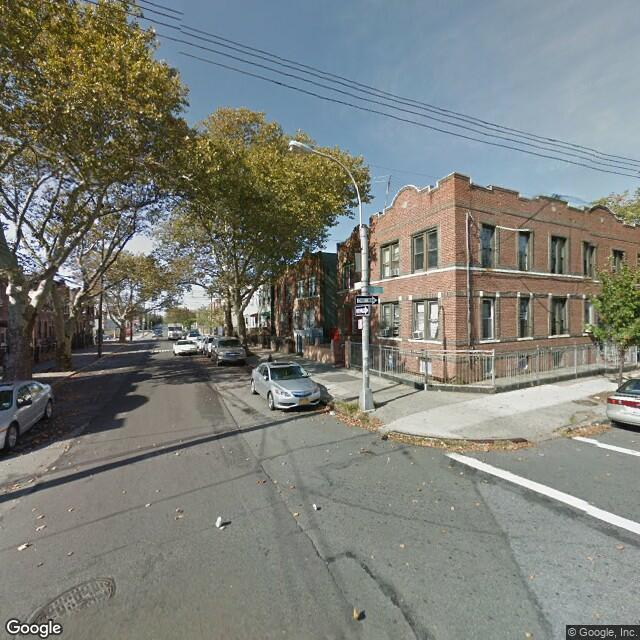litter: (215, 515, 229, 533), (374, 427, 395, 438), (312, 502, 324, 510), (17, 545, 32, 551), (326, 407, 336, 415), (591, 394, 602, 399)
